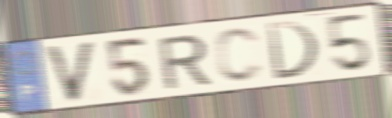5: (323, 11, 375, 74), (105, 33, 152, 99)
C: (213, 25, 267, 85)
D: (263, 19, 322, 82)
R: (155, 32, 213, 92)
V: (42, 38, 98, 105)
